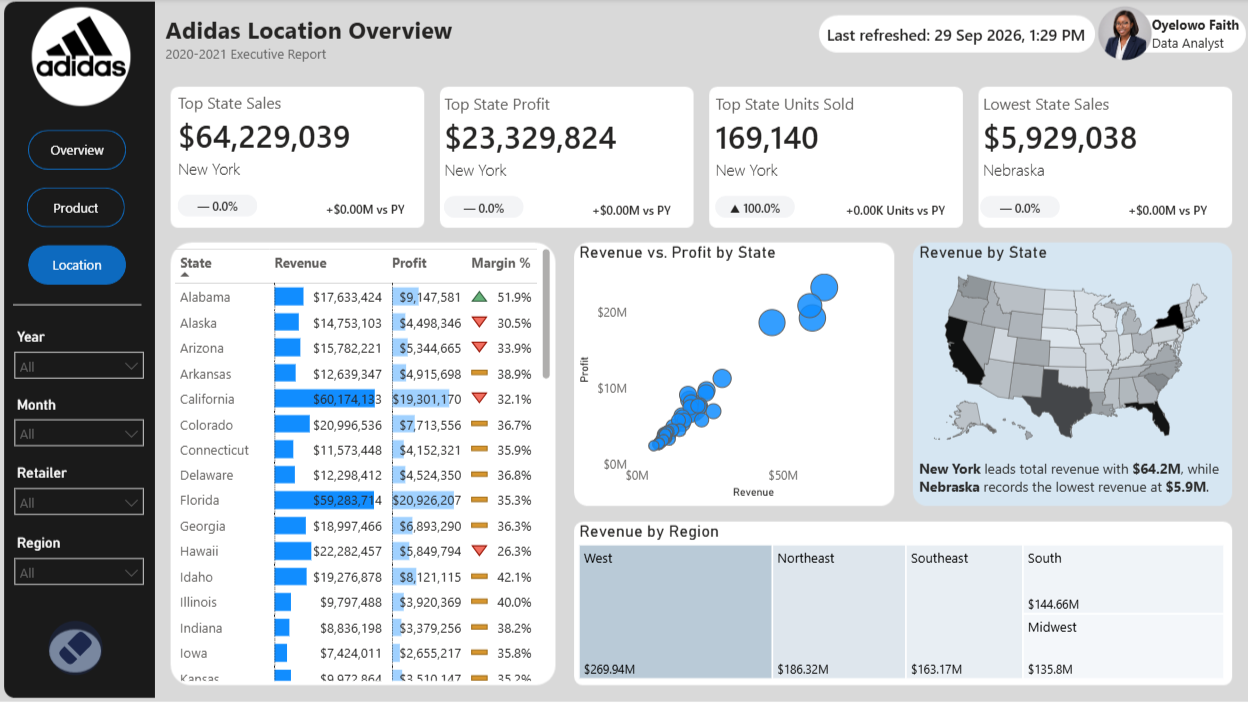

Layout of this report page (visuals, bound fields, positions):
{"tool":"powerbi","page":{"name":"Location","canvas":[1280,720],"ordinal":5},"visuals":[{"type":"image","box":[1116,6,70,57.9],"z":0,"group":"g5"},{"type":"textbox","box":[166.5,9.7,329.4,62.7],"z":0},{"type":"cardVisual","fields":{"Data":["DAX Measures.Top State Sales"]},"box":[178.6,91.7,259.4,130.2],"z":0,"group":"g1"},{"type":"cardVisual","fields":{"Data":["DAX Measures.Top State Profit"]},"box":[450.7,92.6,259.4,130.2],"z":0,"group":"g2"},{"type":"cardVisual","fields":{"Data":["DAX Measures.Lowest State Sales"]},"box":[1000.1,92.6,258.8,130.7],"z":0,"group":"g3"},{"type":"cardVisual","fields":{"Data":["DAX Measures.Top State Units Sold"]},"box":[727.9,92.7,259.4,130.2],"z":0,"group":"g4"},{"type":"textbox","box":[1173.9,12,103.8,47.1],"z":1000,"group":"g5"},{"type":"cardVisual","fields":{"Data":["DAX Measures.Top State Sales Growth Badge"]},"box":[178.6,194.8,91.1,32.6],"z":1000,"group":"g1"},{"type":"cardVisual","fields":{"Data":["DAX Measures.Top State Profit Growth Badge"]},"box":[450.7,195.7,91.1,32.6],"z":1000,"group":"g2"},{"type":"cardVisual","fields":{"Data":["DAX Measures.Lowest State Sales Growth Badge"]},"box":[997.6,195.7,91.1,32.6],"z":1000,"group":"g3"},{"type":"cardVisual","fields":{"Data":["DAX Measures.Top State Units Sold Growth Badge"]},"box":[727.9,195.8,91.1,32.6],"z":1000,"group":"g4"},{"type":"slicer","fields":{"Values":["Date.Year"]},"box":[6.2,332.5,152.5,70],"z":1000},{"type":"cardVisual","fields":{"Data":["DAX Measures.Top State Sales Growth Label"]},"box":[329,194.8,106.2,36.9],"z":2000,"group":"g1"},{"type":"cardVisual","fields":{"Data":["DAX Measures.Top State Profit Growth Label"]},"box":[601.1,195.7,106.2,36.9],"z":2000,"group":"g2"},{"type":"cardVisual","fields":{"Data":["DAX Measures.Lowest Product Sales Growth Label"]},"box":[1148,195.7,106.2,36.9],"z":2000,"group":"g3"},{"type":"cardVisual","fields":{"Data":["DAX Measures.Top State Units Sold Growth Label"]},"box":[860,197.2,124.3,35.5],"z":2000,"group":"g4"},{"type":"slicer","fields":{"Values":["Date.Month"]},"box":[6.2,401.2,152.5,70],"z":2000},{"type":"slicer","fields":{"Values":["Sales.Retailer"]},"box":[6.2,471.2,152.5,70],"z":3000},{"type":"slicer","fields":{"Values":["Location.Region"]},"box":[6.2,542.5,152.5,70],"z":4000},{"type":"shape","box":[15.7,299.2,131.5,27.7],"z":5000},{"type":"image","box":[9.7,4.8,147.2,113.4],"z":6000},{"type":"group","id":"g1","title":"Group 1","box":[178.6,91.7,259.4,139.9],"z":7000},{"type":"group","id":"g2","title":"Group 1","box":[450.7,92.6,258.8,139.6],"z":8000},{"type":"group","id":"g3","title":"Group 1","box":[997.6,92.6,261.4,139.9],"z":9000},{"type":"group","id":"g4","title":"Group 1","box":[727.9,92.7,259.4,140],"z":10000},{"type":"pivotTable","fields":{"Rows":["Location.State"],"Values":["DAX Measures.Revenue","DAX Measures.Profit","DAX Measures.Margin %"]},"box":[176.4,250,393.3,451.7],"z":11000},{"type":"scatterChart","title":"Revenue vs. Profit by State","fields":{"Category":["Location.State"],"Series":["Location.Region"],"Size":["DAX Measures.Total Units"],"X":["DAX Measures.Revenue"],"Y":["DAX Measures.Profit"]},"box":[588.7,248.7,323.6,266.5],"z":11001},{"type":"shapeMap","fields":{"Category":["Location.State"],"Value":["DAX Measures.Revenue"]},"box":[935.1,248.7,319.7,215.7],"z":11002},{"type":"htmlContent443BE3AD55E043BF878BED274D3A6865","fields":{"content":["DAX Measures.Map Summary"]},"box":[935.1,464.4,319.7,50.8],"z":11003},{"type":"treemap","fields":{"Group":["Location.Region"],"Values":["DAX Measures.Revenue"]},"box":[588.7,534.2,668.7,166.2],"z":11004},{"type":"image","box":[45.8,611.7,66.4,102.5],"z":11005},{"type":"actionButton","box":[30.5,134.5,100.2,40.6],"z":11006},{"type":"actionButton","box":[29.2,192.9,100.2,40.6],"z":11007},{"type":"actionButton","box":[30.5,251.2,100.2,40.6],"z":11008},{"type":"cardVisual","fields":{"Data":["Last Refresh.Last Refreshed Label"]},"box":[840.9,9.7,275.1,50.7],"z":11009},{"type":"group","id":"g5","title":"Group 3","box":[1116,6,161.7,57.9],"z":11010}]}

Visuals, with their boxes on the page's 1280x720 design canvas (x1, y1, x2, y2). These are canvas units, not pixel positions in the 1248x703 screenshot, which may show the page scaled, cropped or inside an application window:
image: rect(1116, 6, 1186, 64)
textbox: rect(166, 10, 496, 72)
cardVisual - DAX Measures.Top State Sales: rect(179, 92, 438, 222)
cardVisual - DAX Measures.Top State Profit: rect(451, 93, 710, 223)
cardVisual - DAX Measures.Lowest State Sales: rect(1000, 93, 1259, 223)
cardVisual - DAX Measures.Top State Units Sold: rect(728, 93, 987, 223)
textbox: rect(1174, 12, 1278, 59)
cardVisual - DAX Measures.Top State Sales Growth Badge: rect(179, 195, 270, 227)
cardVisual - DAX Measures.Top State Profit Growth Badge: rect(451, 196, 542, 228)
cardVisual - DAX Measures.Lowest State Sales Growth Badge: rect(998, 196, 1089, 228)
cardVisual - DAX Measures.Top State Units Sold Growth Badge: rect(728, 196, 819, 228)
slicer - Date.Year: rect(6, 332, 159, 402)
cardVisual - DAX Measures.Top State Sales Growth Label: rect(329, 195, 435, 232)
cardVisual - DAX Measures.Top State Profit Growth Label: rect(601, 196, 707, 233)
cardVisual - DAX Measures.Lowest Product Sales Growth Label: rect(1148, 196, 1254, 233)
cardVisual - DAX Measures.Top State Units Sold Growth Label: rect(860, 197, 984, 233)
slicer - Date.Month: rect(6, 401, 159, 471)
slicer - Sales.Retailer: rect(6, 471, 159, 541)
slicer - Location.Region: rect(6, 542, 159, 612)
shape: rect(16, 299, 147, 327)
image: rect(10, 5, 157, 118)
"Group 1" group: rect(179, 92, 438, 232)
"Group 1" group: rect(451, 93, 710, 232)
"Group 1" group: rect(998, 93, 1259, 232)
"Group 1" group: rect(728, 93, 987, 233)
pivotTable - Location.State x DAX Measures.Revenue: rect(176, 250, 570, 702)
"Revenue vs. Profit by State" scatterChart: rect(589, 249, 912, 515)
shapeMap - Location.State x DAX Measures.Revenue: rect(935, 249, 1255, 464)
htmlContent443BE3AD55E043BF878BED274D3A6865 - DAX Measures.Map Summary: rect(935, 464, 1255, 515)
treemap - Location.Region x DAX Measures.Revenue: rect(589, 534, 1257, 700)
image: rect(46, 612, 112, 714)
actionButton: rect(30, 134, 131, 175)
actionButton: rect(29, 193, 129, 234)
actionButton: rect(30, 251, 131, 292)
cardVisual - Last Refresh.Last Refreshed Label: rect(841, 10, 1116, 60)
"Group 3" group: rect(1116, 6, 1278, 64)
